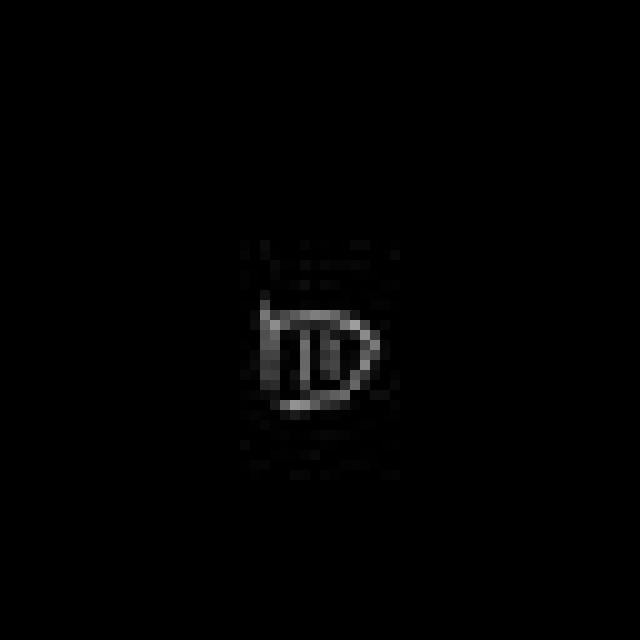4 -four-: (249, 290, 382, 423)
